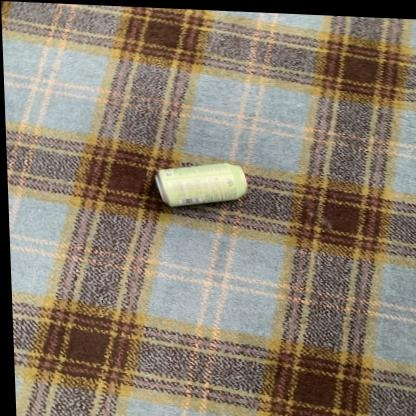trash: (155, 163, 246, 206)
